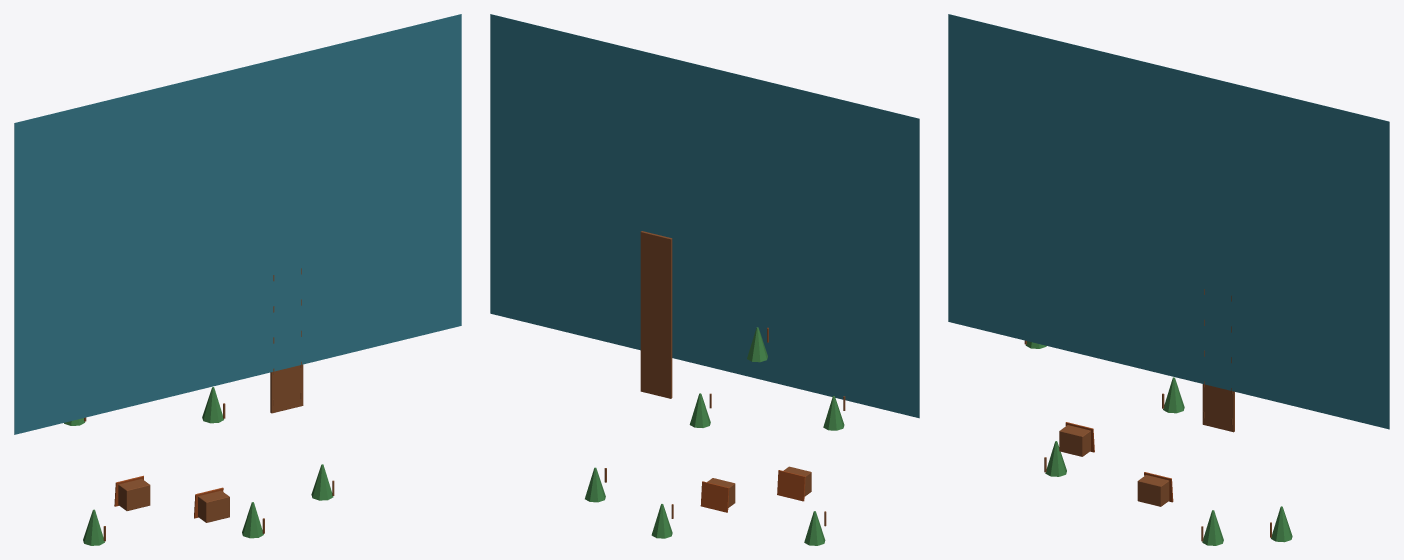
The model's file is pf_backcountry_lakeside.glb.
3 renders of one model, left to right at view 1: azimuth 30°, elevation 25°; view 2: azimuth 150°, elevation 25°; view 3: azimuth 330°, elevation 25°, orthographic. The views are drawn at different scales.
Visible parts, largest first — view 1: shore_water, pier_deck, cabin_wall_-20, cabin_wall_-4; view 2: shore_water, pier_deck, cabin_roof_-20, cabin_roof_-4; view 3: shore_water, pier_deck, cabin_wall_-4, cabin_wall_-20.
Boxes of the visible parts, x1=… form: shore_water: x1=14, y1=14, x2=461, y2=434; pier_deck: x1=270, y1=364, x2=303, y2=413; cabin_wall_-20: x1=118, y1=479, x2=150, y2=510; cabin_wall_-4: x1=198, y1=490, x2=229, y2=522; shore_water: x1=490, y1=14, x2=919, y2=418; pier_deck: x1=640, y1=231, x2=672, y2=398; cabin_roof_-20: x1=777, y1=470, x2=805, y2=501; cabin_roof_-4: x1=700, y1=481, x2=729, y2=512; shore_water: x1=948, y1=14, x2=1389, y2=429; pier_deck: x1=1202, y1=384, x2=1234, y2=432; cabin_wall_-4: x1=1137, y1=475, x2=1169, y2=506; cabin_wall_-20: x1=1059, y1=425, x2=1090, y2=456.
Size of the model in its own units: 90 by 93 by 7.23.
